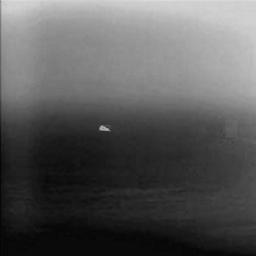Target: (98, 125, 111, 132)
